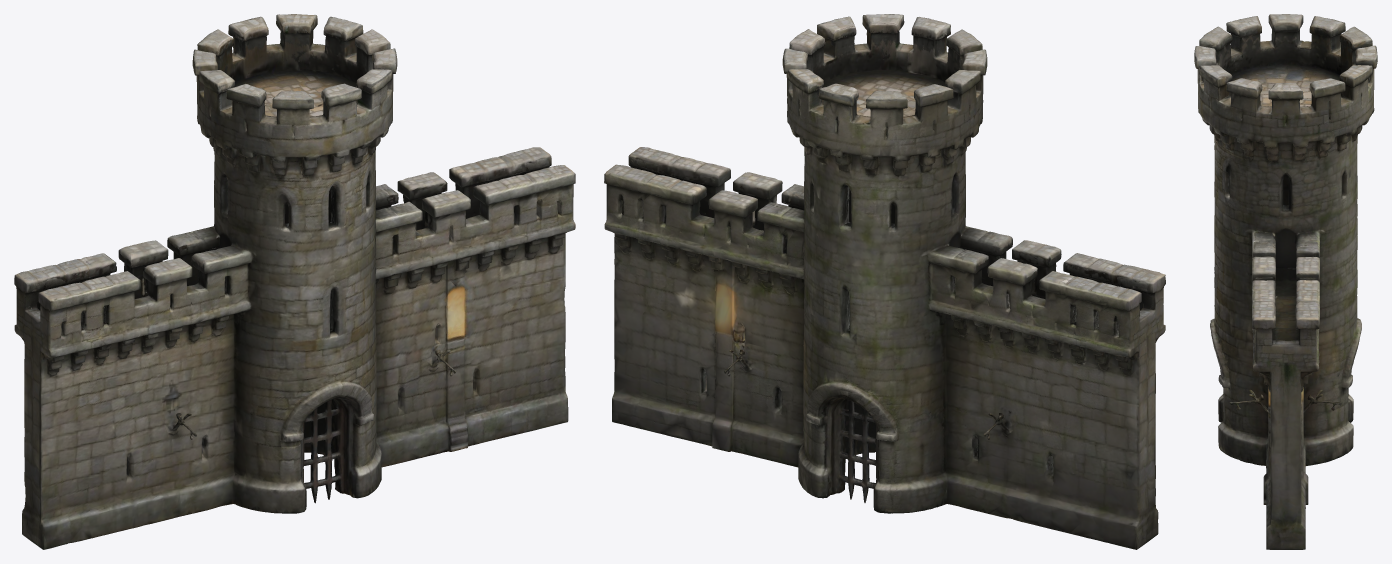
Rendered from gt_castle.glb.
3 renders of one model, left to right at view 1: azimuth 30°, elevation 25°; view 2: azimuth 150°, elevation 25°; view 3: azimuth 270°, elevation 25°, orthographic. The views are drawn at different scales.
Visible parts, largest first — view 1: gt_castle; view 2: gt_castle; view 3: gt_castle.
Part boxes in pixels (left/top/right/bottom): gt_castle: left=14, top=14, right=575, bottom=549; gt_castle: left=604, top=14, right=1165, bottom=549; gt_castle: left=1194, top=14, right=1377, bottom=549.
Bounding box in the file's own units: 1.9 × 1.47 × 0.6362.
Materials: 1 (1 with a texture image).
